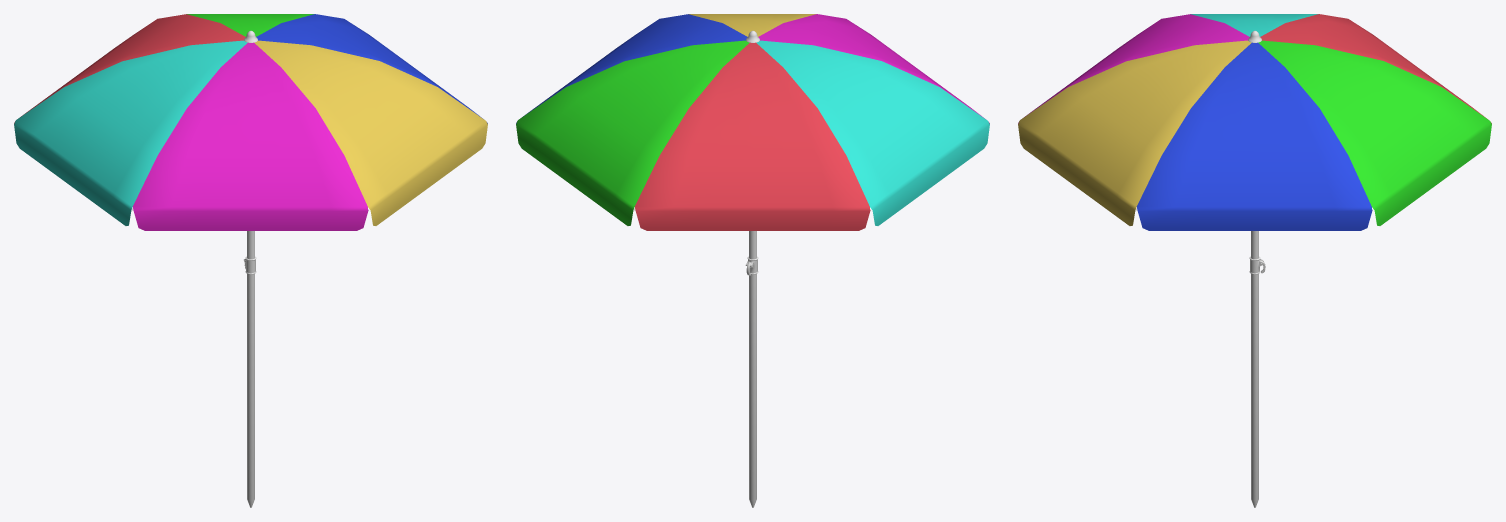
The model's file is umbrella.glb.
3 renders of one model, left to right at view 1: azimuth 30°, elevation 25°; view 2: azimuth 150°, elevation 25°; view 3: azimuth 270°, elevation 25°, orthographic.
Parts seen in each view (by area): view 1: Sphere.002, Cylinder, Cylinder.001; view 2: Sphere.002, Cylinder, Cylinder.001; view 3: Sphere.002, Cylinder, Cylinder.001.
Boxes of the visible parts, left/top/right/bottom form: Sphere.002: left=14, top=14, right=487, bottom=230; Cylinder: left=247, top=274, right=254, bottom=507; Cylinder.001: left=244, top=30, right=257, bottom=274; Sphere.002: left=516, top=14, right=989, bottom=230; Cylinder: left=749, top=274, right=756, bottom=507; Cylinder.001: left=745, top=30, right=759, bottom=275; Sphere.002: left=1018, top=14, right=1491, bottom=230; Cylinder: left=1251, top=274, right=1258, bottom=507; Cylinder.001: left=1248, top=30, right=1265, bottom=274.
Bounding box in the file's own units: 2.04 × 2.6 × 2.34.
